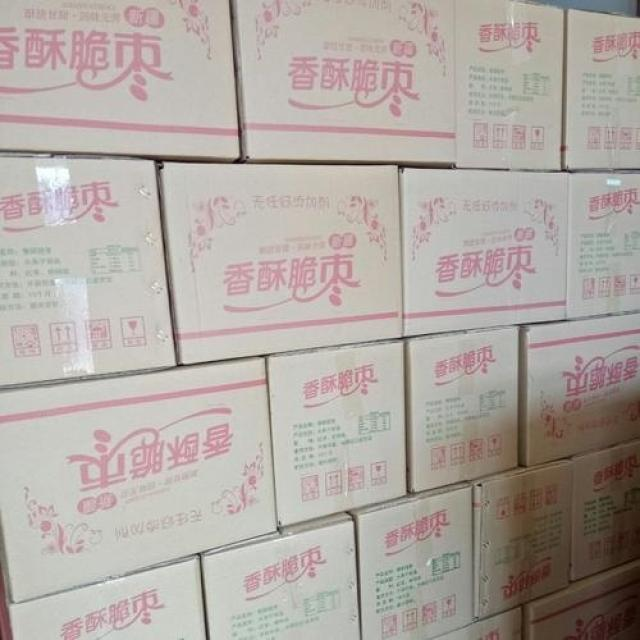box: (0, 356, 277, 604), (156, 165, 403, 365), (0, 155, 179, 389), (0, 0, 242, 159), (231, 1, 455, 166), (398, 168, 567, 337), (267, 341, 407, 523), (202, 511, 362, 639), (348, 483, 473, 639), (519, 312, 639, 470), (405, 328, 517, 496), (457, 1, 564, 169), (7, 555, 208, 638), (473, 460, 568, 622), (564, 9, 639, 169), (567, 172, 639, 320), (570, 441, 639, 584), (521, 561, 639, 639), (431, 608, 521, 639)
